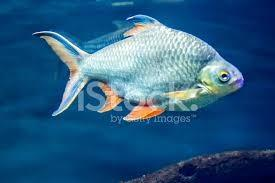Silver Barb: (30, 13, 244, 122)
